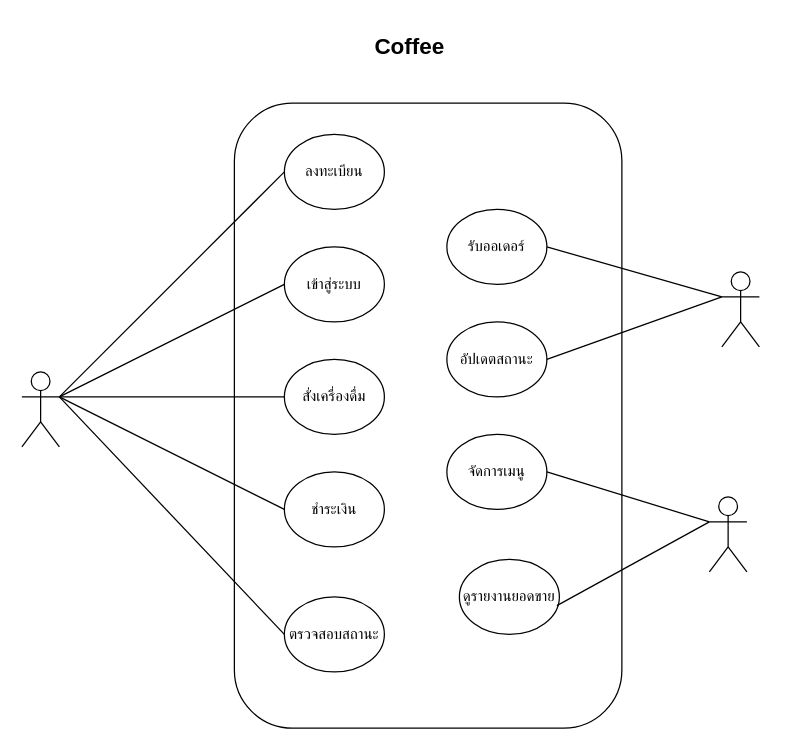
Image size: 786x750. Some labels were removed from this diagram. Each missing label, with the centre of its shape:
"พนักงาน" belongs at [740,309].
"ลูกค้า" belongs at [40,409].
"แอดมิน" belongs at [727,534].
